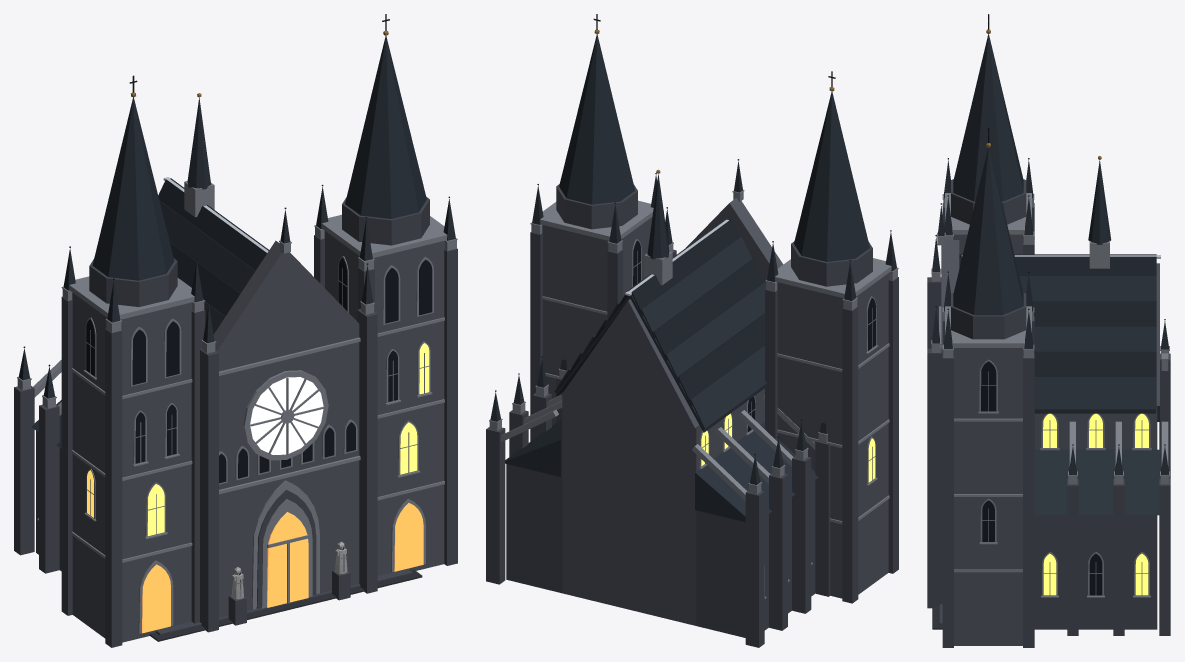
File: gothic_cathedral.glb
The picture shows the model from 3 angles, left to right: view 1: azimuth 30°, elevation 25°; view 2: azimuth 150°, elevation 25°; view 3: azimuth 270°, elevation 25°; orthographic projection. The views are drawn at different scales.
Parts seen in each view (by area): view 1: gothic_cathedral; view 2: gothic_cathedral; view 3: gothic_cathedral.
Part boxes in pixels (<box>): gothic_cathedral: <box>14,14,457,647</box>; gothic_cathedral: <box>486,14,898,647</box>; gothic_cathedral: <box>927,14,1170,647</box>.
Bounding box in the file's own units: 28.8 × 43.1 × 19.05.
